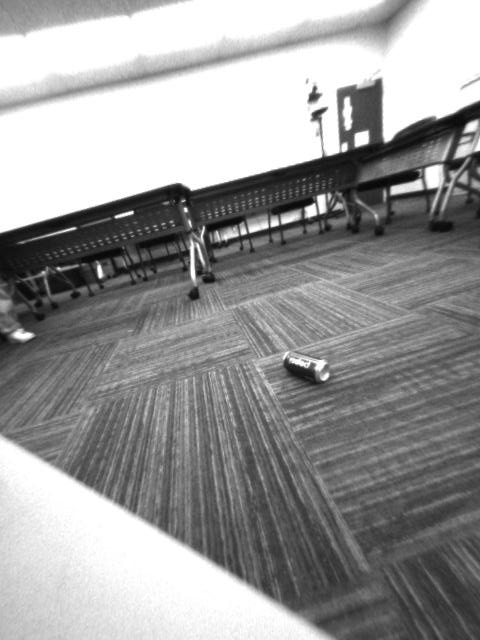can: (278, 347, 334, 387)
